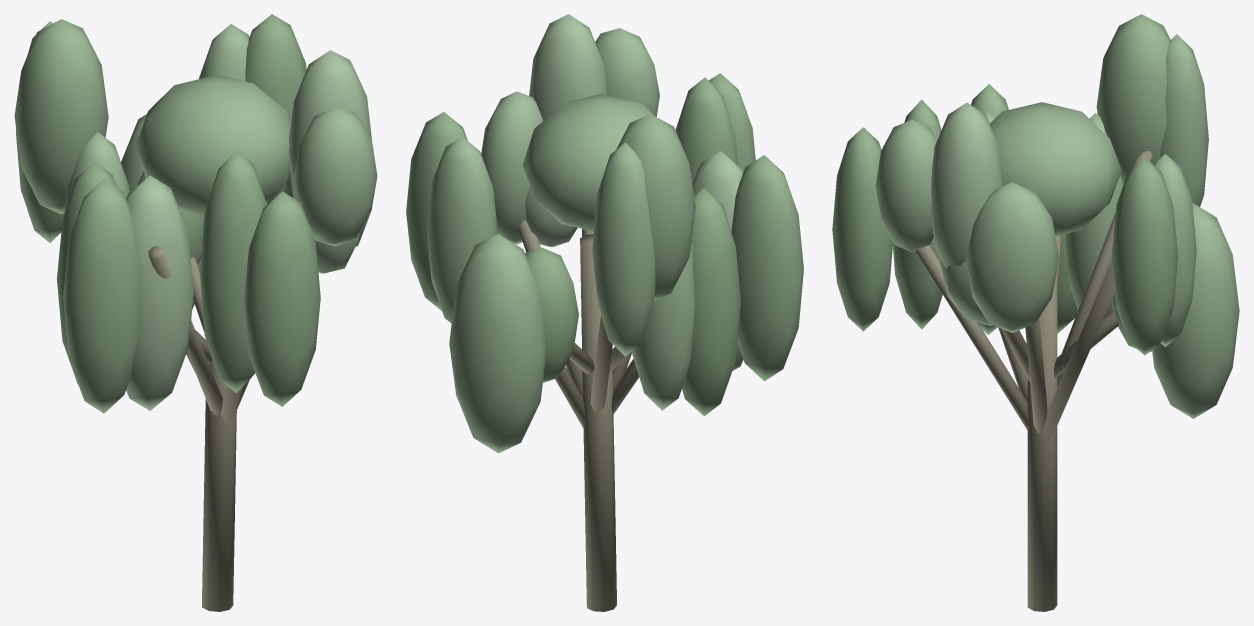
Rendered from willow.glb.
3 renders of one model, left to right at view 1: azimuth 30°, elevation 25°; view 2: azimuth 150°, elevation 25°; view 3: azimuth 270°, elevation 25°, orthographic. The views are drawn at different scales.
Parts seen in each view (by area): view 1: willow; view 2: willow; view 3: willow.
Part boxes in pixels (left/top/right/bottom): willow: left=14, top=14, right=377, bottom=611; willow: left=406, top=14, right=803, bottom=611; willow: left=832, top=14, right=1239, bottom=611.
Size of the model in its own units: 5.53 by 9.39 by 6.38.
